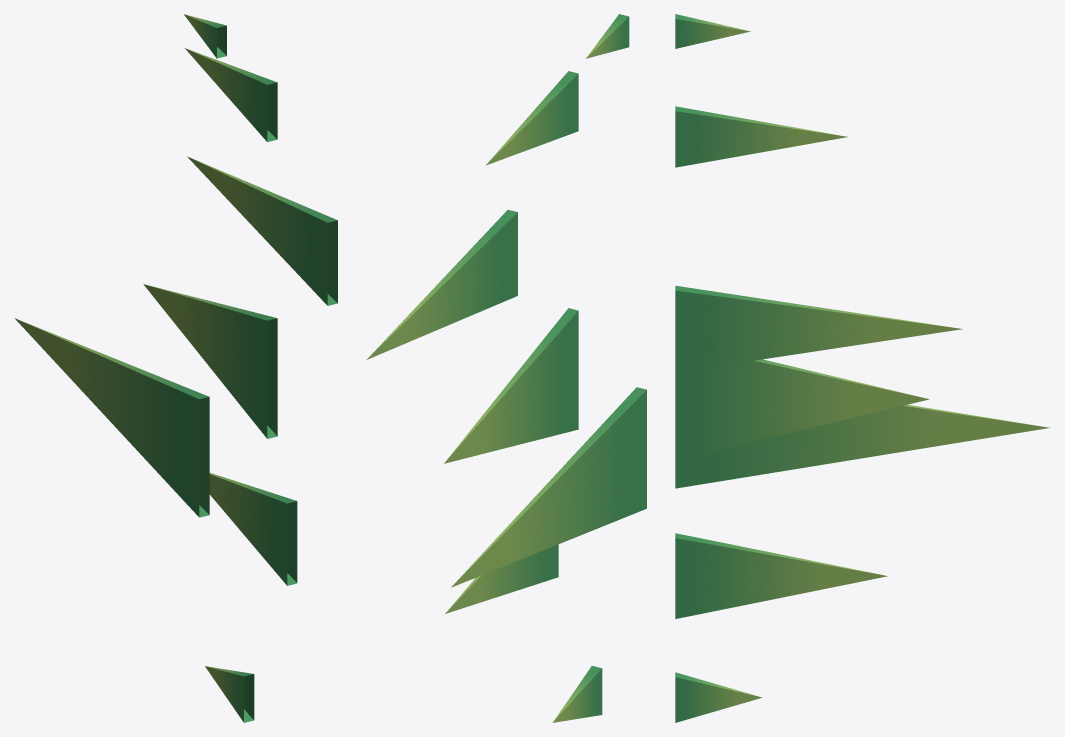
File: grassblades.fbx
The picture shows the model from 3 angles, left to right: view 1: azimuth 30°, elevation 25°; view 2: azimuth 150°, elevation 25°; view 3: azimuth 270°, elevation 25°; orthographic projection. The views are drawn at different scales.
Visible parts, largest first — view 1: Cube.006; view 2: Cube.006; view 3: Cube.006.
Part boxes in pixels (bbox=[...]): Cube.006: bbox=[14, 14, 337, 722]; Cube.006: bbox=[366, 14, 646, 722]; Cube.006: bbox=[675, 14, 1049, 722].
Bounding box in the file's own units: 22.15 × 107 × 52.76.
